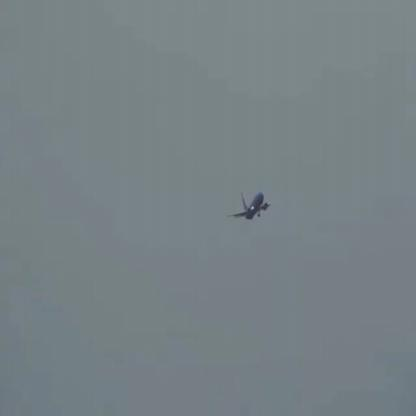CIV_Plane: (227, 192, 271, 220)
